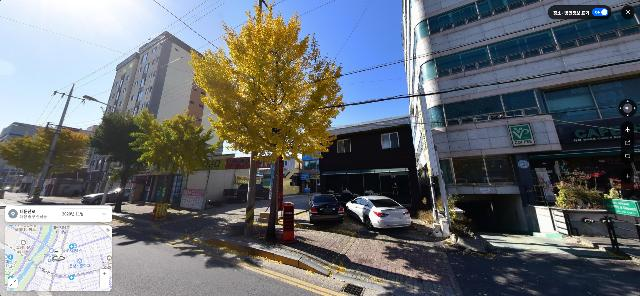ginkgo: (190, 0, 346, 240), (1, 126, 90, 198)
other: (128, 108, 226, 219), (90, 108, 160, 213)
